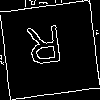R: (25, 24, 65, 75)
